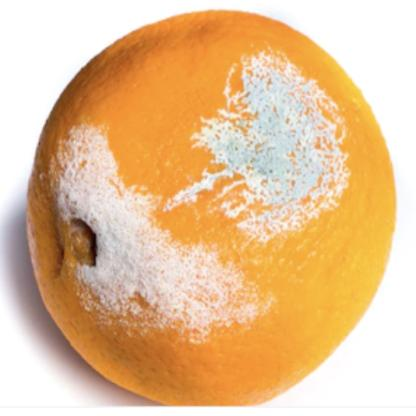rotten: (30, 9, 397, 412)
